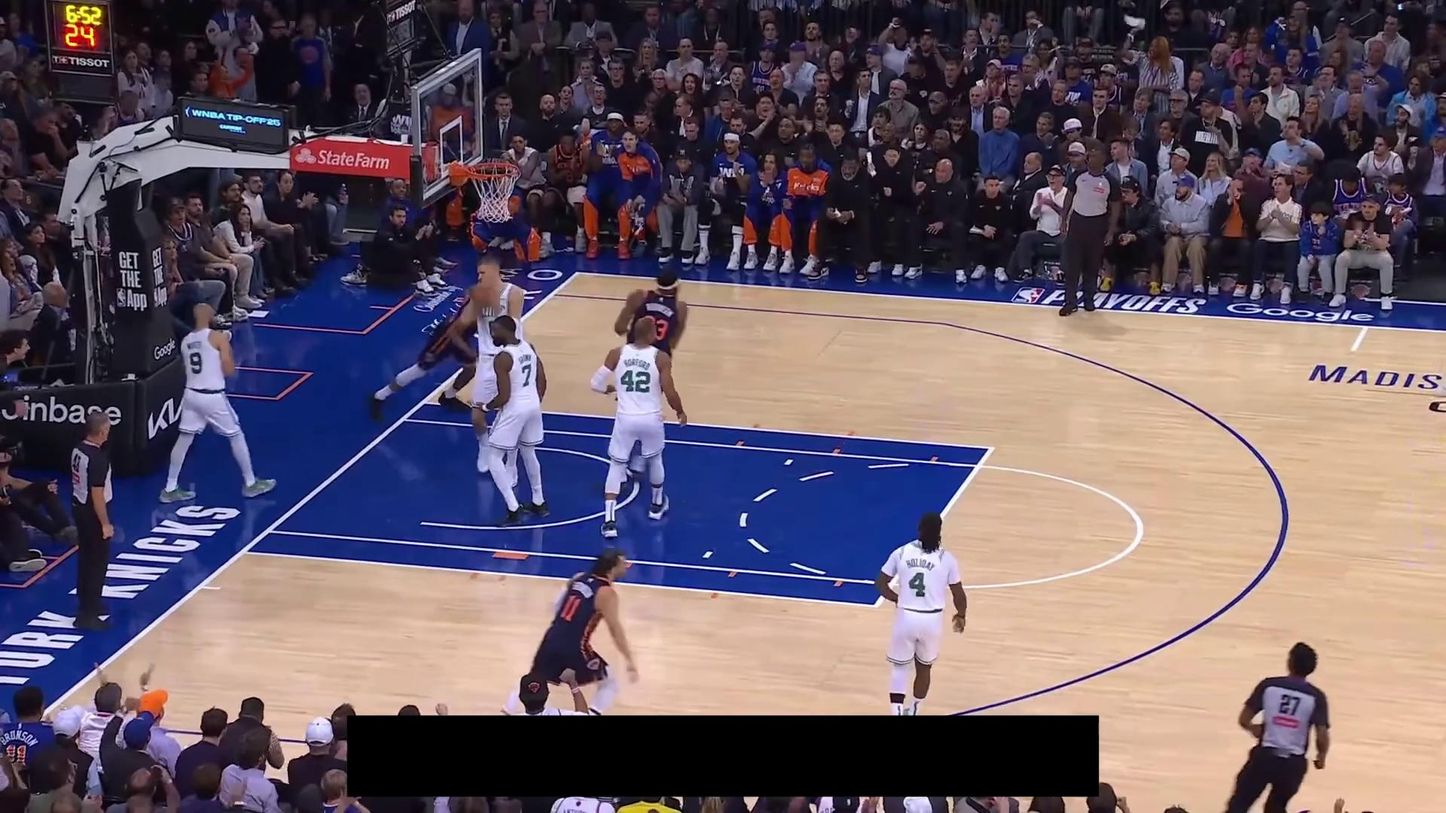ball: (471, 281, 496, 306)
number: (621, 370, 651, 394), (559, 593, 582, 623), (909, 571, 926, 598), (653, 317, 669, 341), (189, 352, 203, 375), (521, 363, 532, 387)
player: (157, 301, 279, 506), (498, 546, 639, 714), (592, 311, 688, 540), (874, 509, 969, 716), (474, 316, 551, 529), (612, 270, 688, 482), (367, 292, 478, 424)
player-in-possession: (471, 251, 526, 488)
referee: (1222, 641, 1331, 813), (67, 410, 118, 632), (1058, 145, 1122, 316)
rim: (465, 160, 521, 179)
